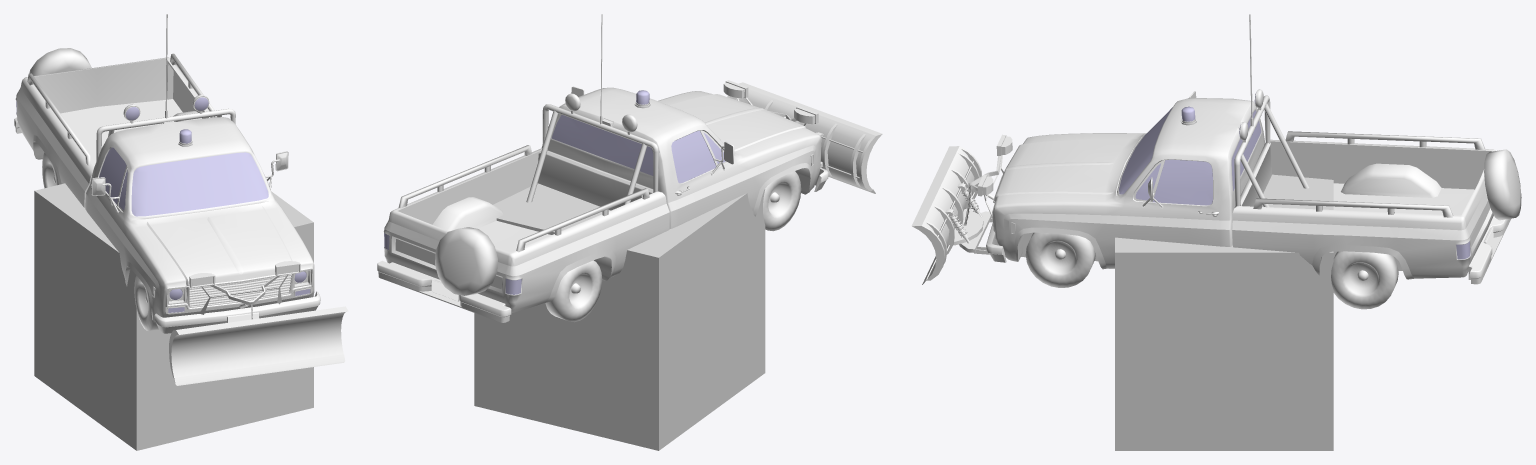
Rendered from snow_plow_jeep.glb.
3 renders of one model, left to right at view 1: azimuth 30°, elevation 25°; view 2: azimuth 150°, elevation 25°; view 3: azimuth 270°, elevation 25°, orthographic. The views are drawn at different scales.
Visible parts, largest first — view 1: Body_1, Cube, plow, window, Front_Right_Tire, Back_Right_Tire; view 2: Body_1, Cube, plow, window, Back_Right_Tire, Front_Right_Tire; view 3: Body_1, Cube, plow, window, Back_Left_Tire_, Front_Left_Tire.
Boxes of the visible parts, left/top/right/bottom form: Body_1: left=14, top=14, right=320, bottom=333; Cube: left=34, top=183, right=313, bottom=450; plow: left=169, top=261, right=348, bottom=385; window: left=16, top=97, right=310, bottom=312; Front_Right_Tire: left=134, top=275, right=159, bottom=331; Back_Right_Tire: left=42, top=152, right=58, bottom=188; Body_1: left=377, top=14, right=828, bottom=322; Cube: left=474, top=181, right=765, bottom=450; plow: left=723, top=80, right=882, bottom=193; window: left=384, top=115, right=725, bottom=294; Back_Right_Tire: left=545, top=260, right=602, bottom=322; Front_Right_Tire: left=763, top=171, right=801, bottom=231; Body_1: left=986, top=14, right=1521, bottom=284; Cube: left=1115, top=174, right=1333, bottom=450; plow: left=911, top=134, right=1025, bottom=284; window: left=1119, top=92, right=1470, bottom=259; Back_Left_Tire_: left=1331, top=251, right=1398, bottom=309; Front_Left_Tire: left=1025, top=232, right=1095, bottom=287.
Size of the model in its own units: 2.69 by 3.97 by 5.58.
